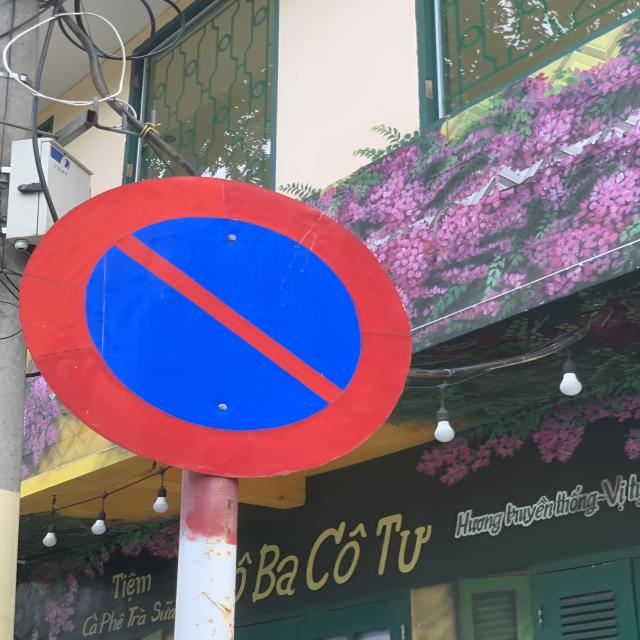Cam_Dau_Xe: (19, 174, 408, 478)
